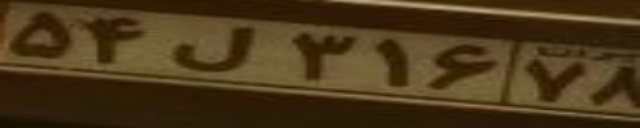1: (374, 37, 410, 87)
3: (292, 33, 356, 81)
4: (85, 16, 147, 63)
5: (10, 9, 71, 58)
6: (428, 42, 496, 90)
7: (523, 58, 584, 102)
8: (594, 65, 639, 109)
lam: (172, 24, 256, 72)
